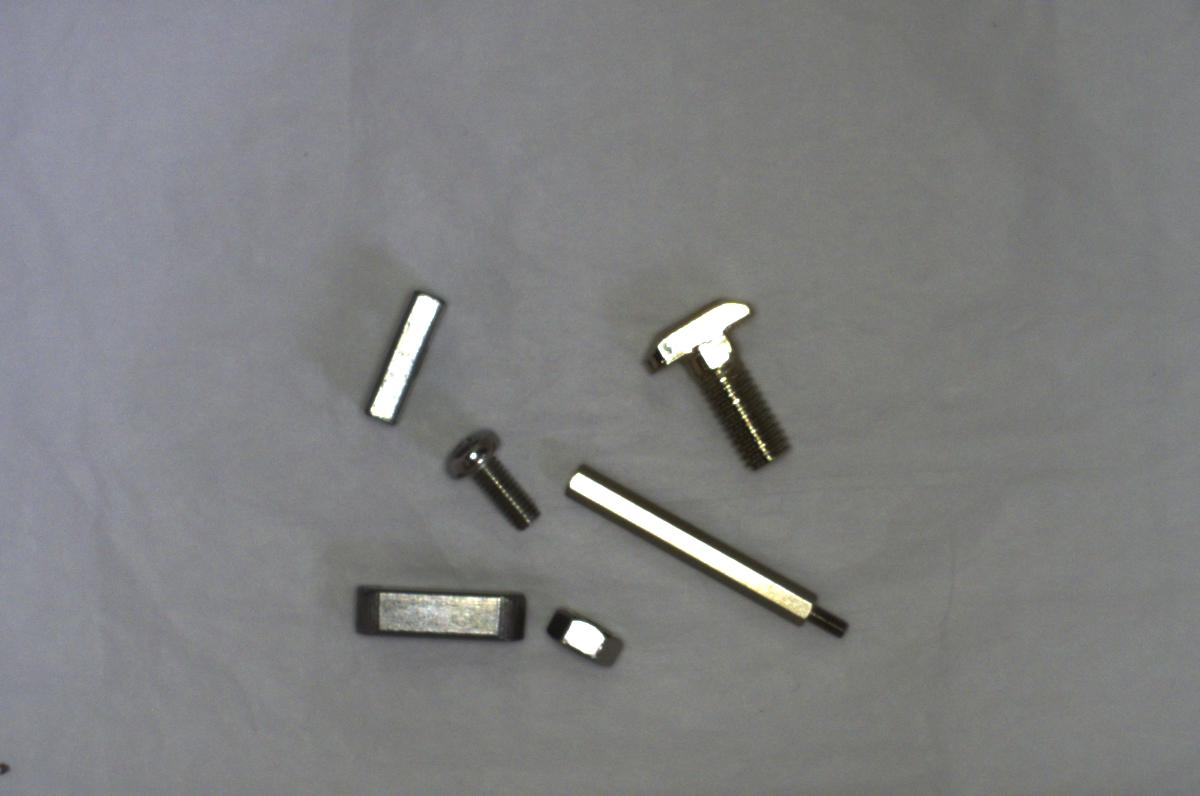Hexagon nut: (538, 595, 635, 683)
Hexagonal steel column: (558, 465, 855, 639)
Keybar: (345, 570, 534, 645)
Rectangular nut: (361, 282, 446, 425)
Round head screw: (445, 425, 540, 536)
T-shaped screw: (633, 295, 797, 474)
